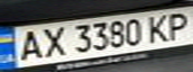0: (124, 16, 148, 46)
3: (69, 20, 93, 54), (90, 19, 112, 52)
8: (106, 17, 127, 50)
A: (12, 28, 45, 62)
K: (142, 11, 175, 43)
P: (160, 9, 193, 40)
X: (36, 24, 69, 58)
